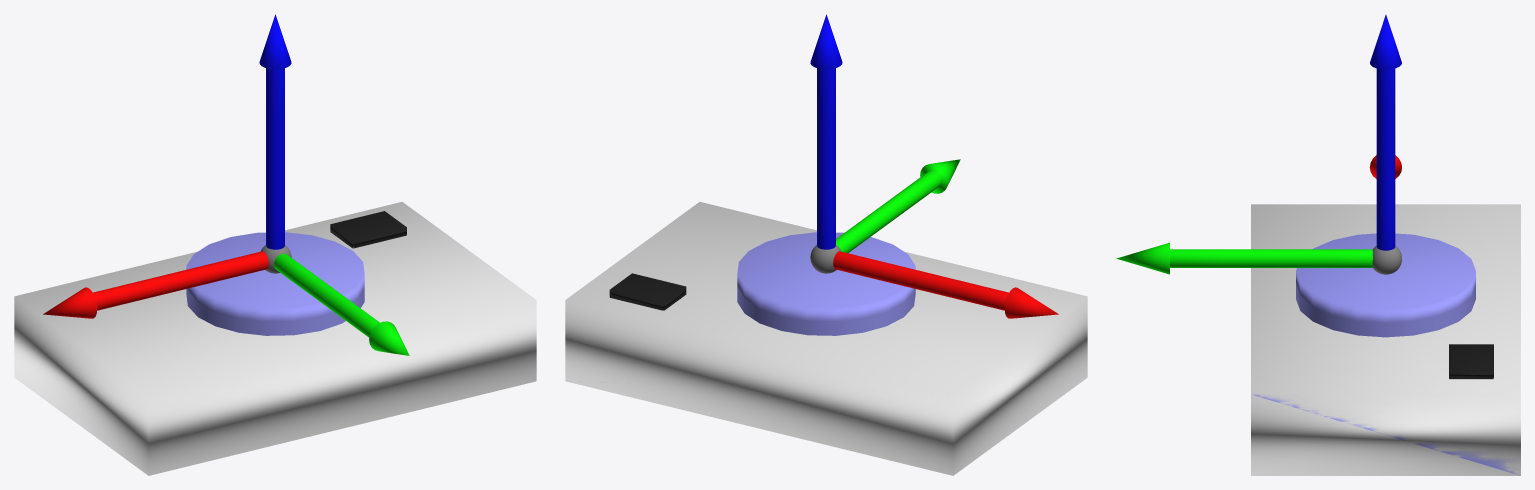
Rendered from camera.gltf.obj.
The picture shows the model from 3 angles, left to right: view 1: azimuth 30°, elevation 25°; view 2: azimuth 150°, elevation 25°; view 3: azimuth 270°, elevation 25°; orthographic projection.
Size of the model in its own units: 0.55 by 0.45 by 0.45.
Materials: 1 (1 with a texture image).
